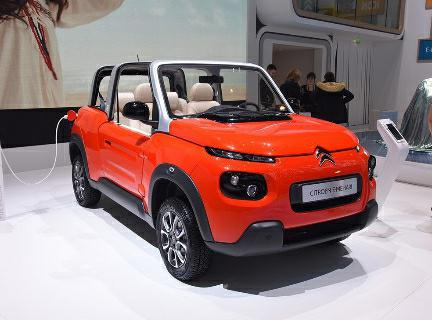雪铁龙-C4Cactus: (56, 50, 384, 293)
